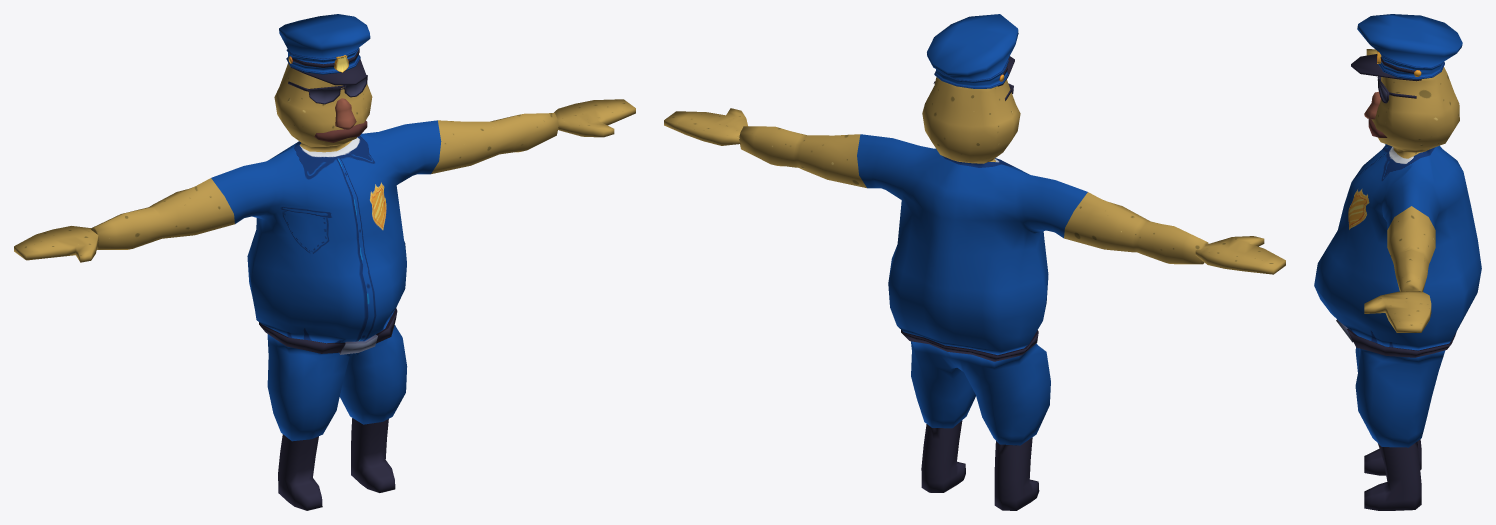
File: f_cop.fbx
3 renders of one model, left to right at view 1: azimuth 30°, elevation 25°; view 2: azimuth 150°, elevation 25°; view 3: azimuth 270°, elevation 25°, orthographic.
Visible parts, largest first — view 1: f_cop; view 2: f_cop; view 3: f_cop.
Part boxes in pixels (x1,y1,x2,y2): f_cop: (14, 14, 635, 510); f_cop: (664, 14, 1285, 510); f_cop: (1314, 14, 1481, 510).
Bounding box in the file's own units: 2.92 × 0.6995 × 2.13.
Materials: 1 (1 with a texture image).
